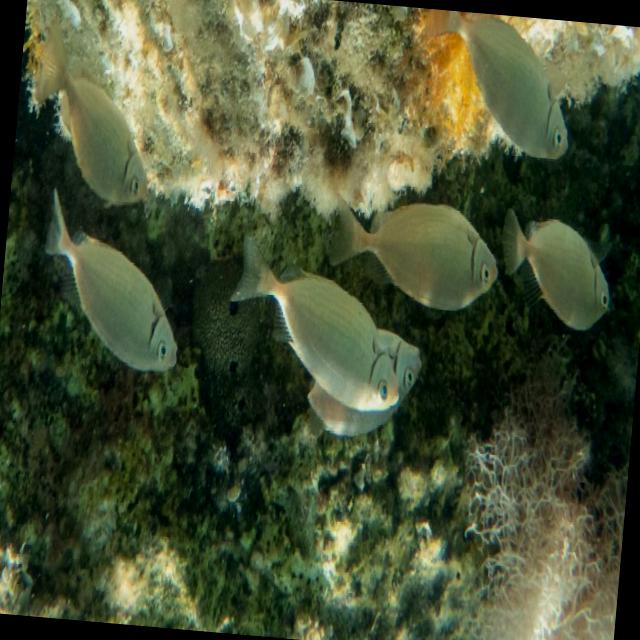Sokar Baligi: (24, 183, 200, 392), (23, 0, 176, 213)
